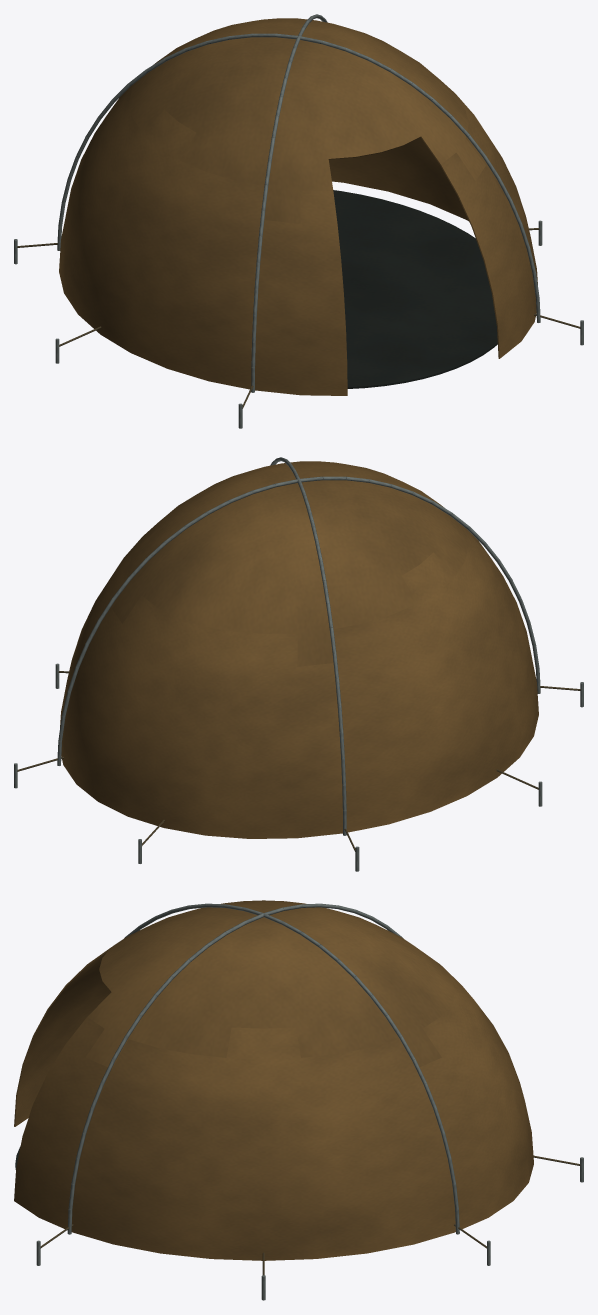
The model's file is level_camp_tent_dome_refined.glb.
3 views of the same model, one above another, from view 1: azimuth 30°, elevation 25°; view 2: azimuth 150°, elevation 25°; view 3: azimuth 270°, elevation 25° (orthographic).
Visible parts, largest first — view 1: level_camp_tent_dome_refined; view 2: level_camp_tent_dome_refined; view 3: level_camp_tent_dome_refined.
Part boxes in pixels (x1,y1,x2,y2): level_camp_tent_dome_refined: (14,14,583,428); level_camp_tent_dome_refined: (14,457,583,871); level_camp_tent_dome_refined: (14,900,583,1300).
Bounding box in the file's own units: 3.44 × 1.81 × 3.49.
4 materials, 4 textured.
